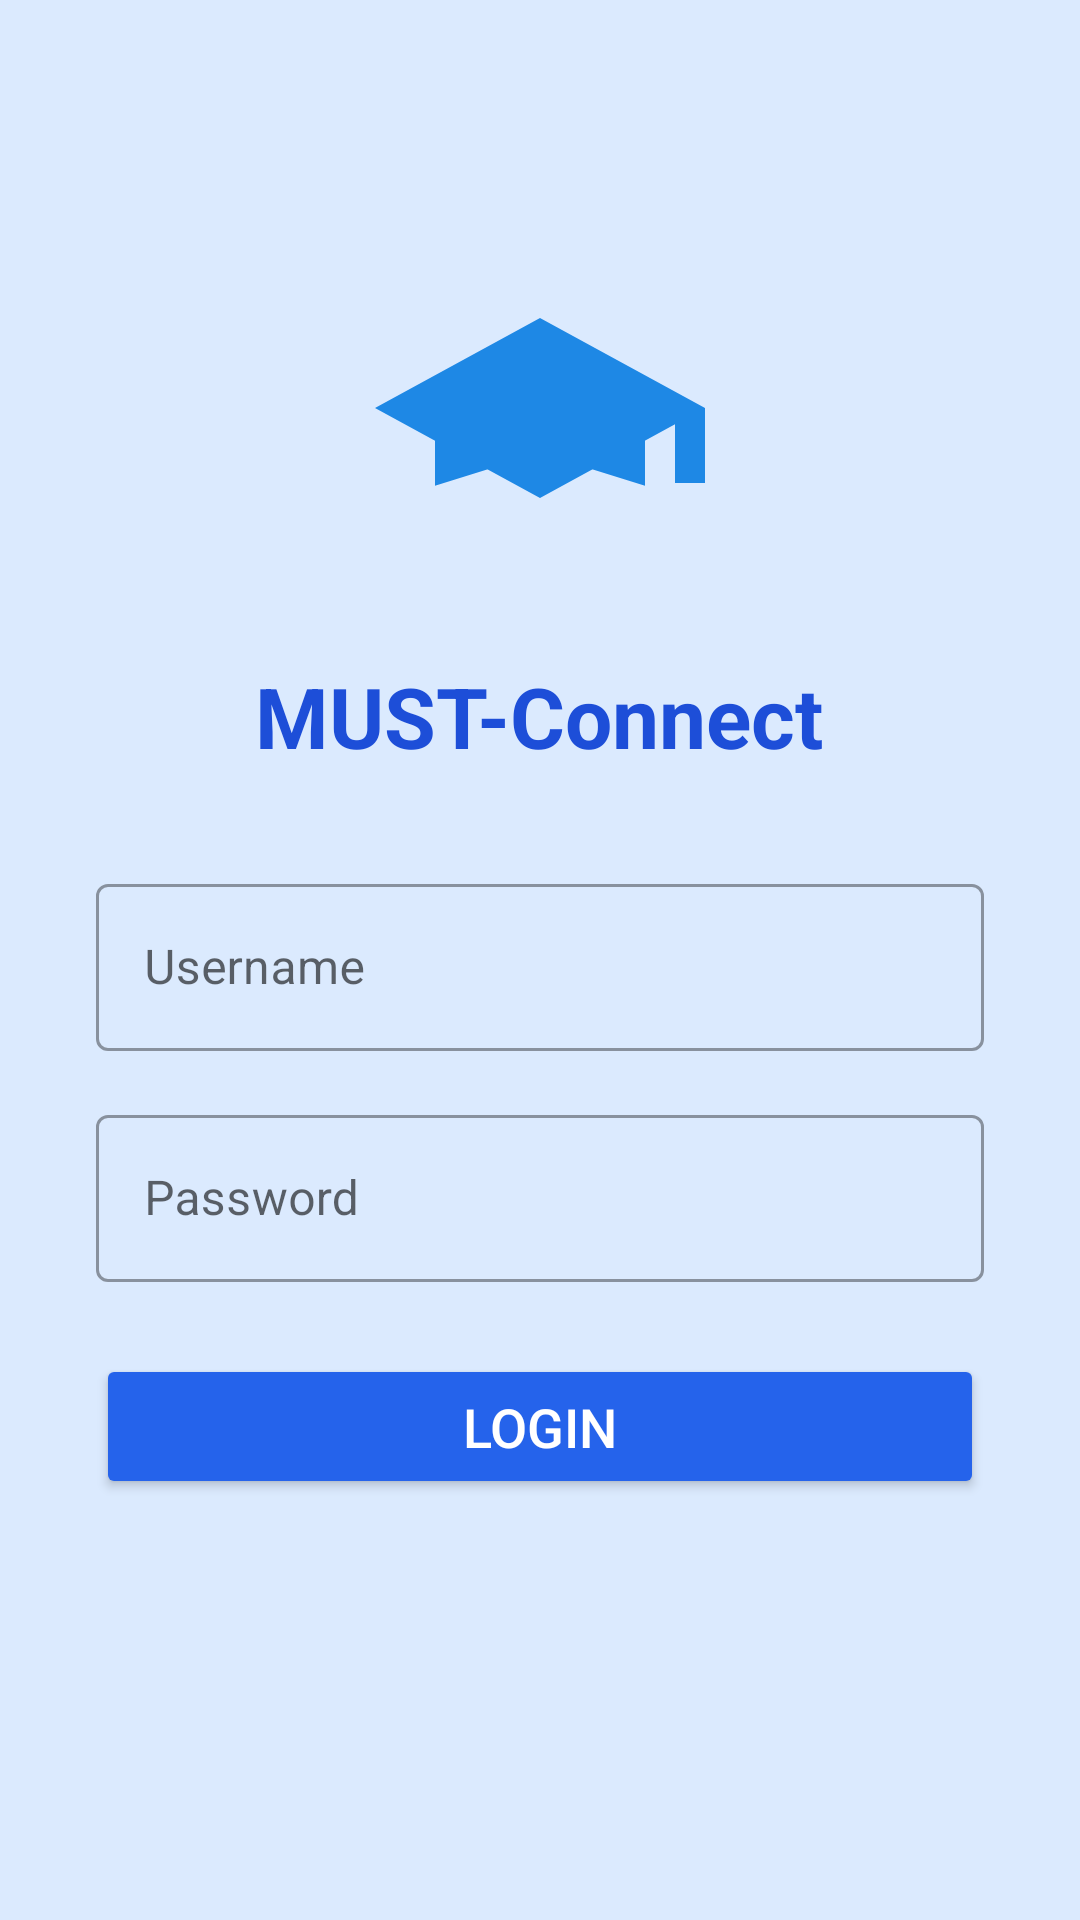

Icons on this 1080w x 1920h Android screen, each with its box as {"x1": x1, "y1": y1, "x2": x2, "y2": y2}:
university: {"x1": 375, "y1": 318, "x2": 705, "y2": 498}
